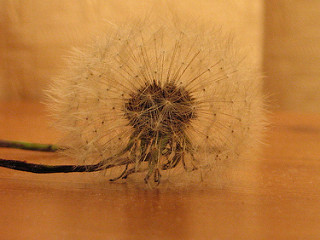dandelion: (42, 3, 277, 198)
